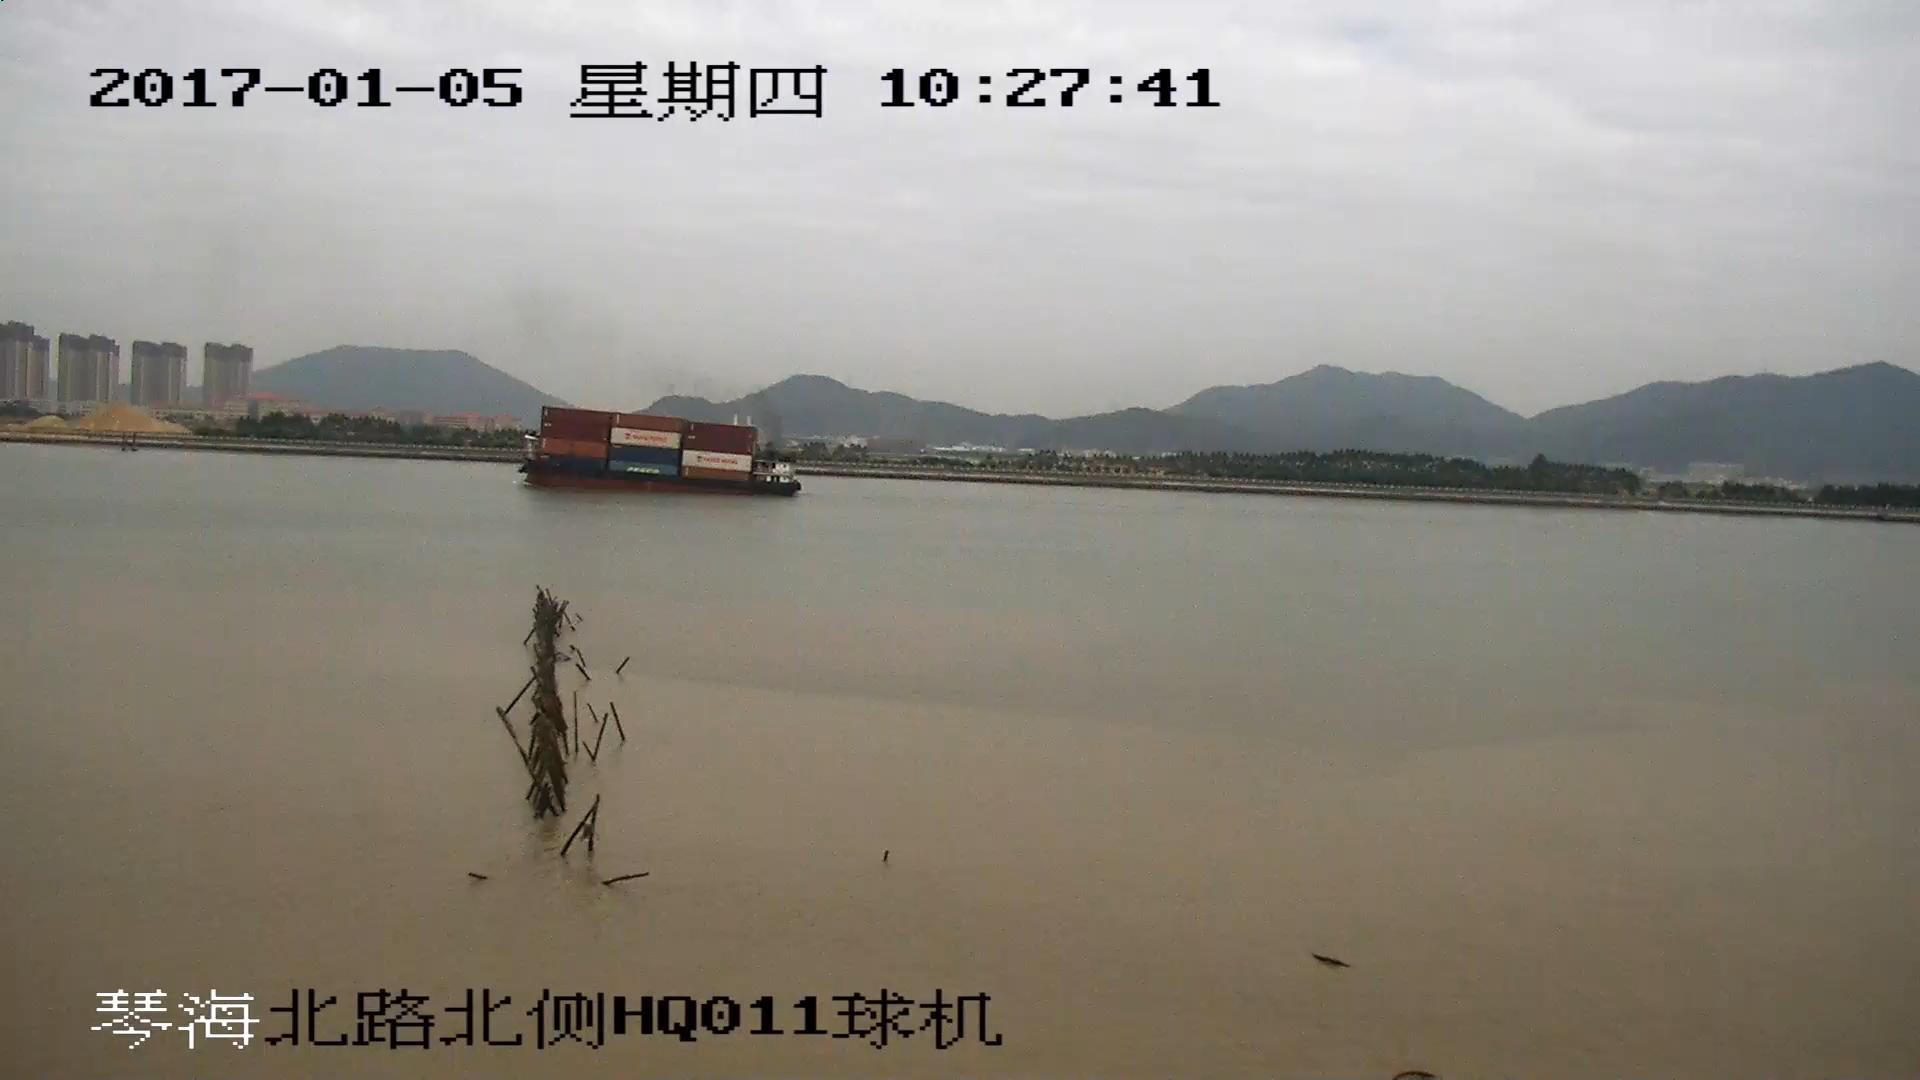Ship: (520, 409, 800, 498)
